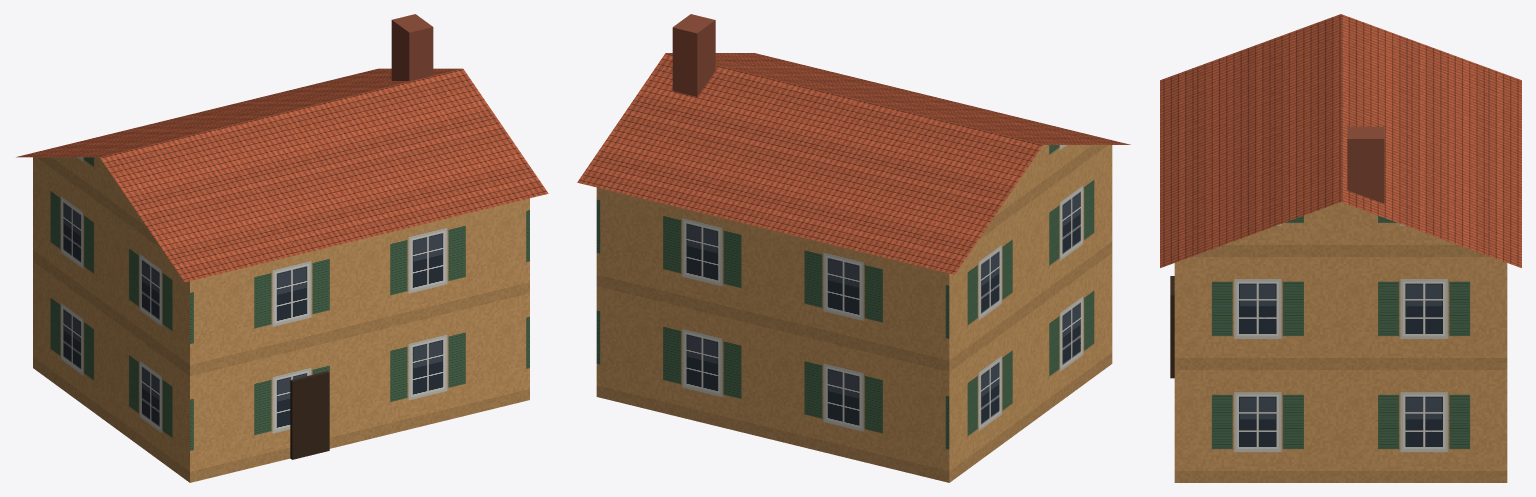
The model's file is casa_provence.glb.
3 renders of one model, left to right at view 1: azimuth 30°, elevation 25°; view 2: azimuth 150°, elevation 25°; view 3: azimuth 270°, elevation 25°, orthographic. The views are drawn at different scales.
Parts seen in each view (by area): view 1: Casa.005; view 2: Casa.005; view 3: Casa.005.
Part boxes in pixels (x1,y1,x2,y2): Casa.005: (16, 14, 548, 482); Casa.005: (577, 14, 1130, 482); Casa.005: (1160, 14, 1521, 482).
Bounding box in the file's own units: 10.7 × 8.92 × 8.7.
Materials: 4 (2 with a texture image).
